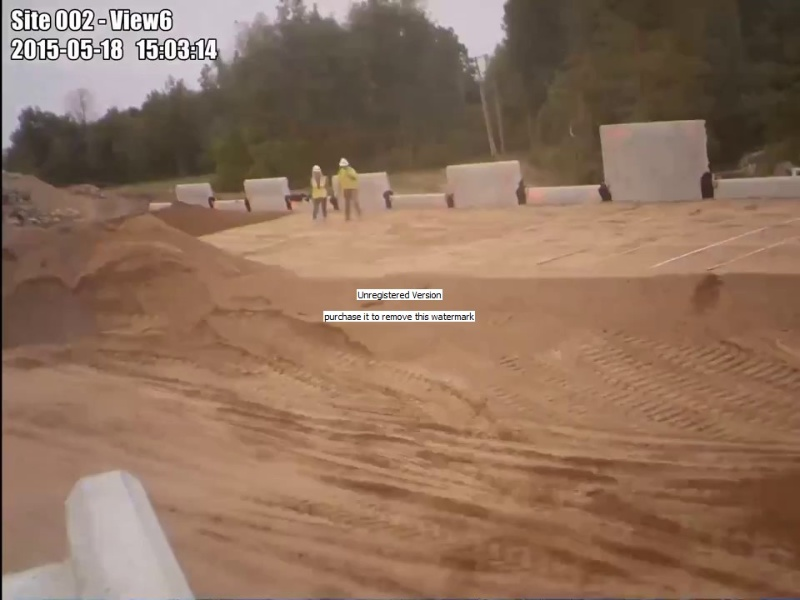hardhat: (312, 165, 322, 173), (339, 159, 349, 166)
person: (337, 157, 364, 219), (305, 164, 332, 221)
wall: (174, 117, 800, 212)
